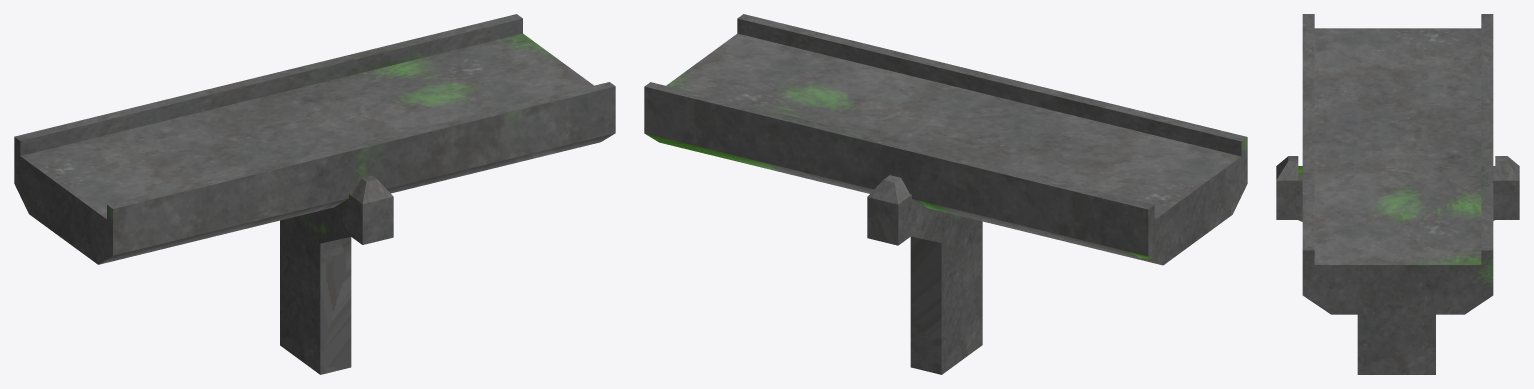
Rendered from bridge_part.fbx.
The picture shows the model from 3 angles, left to right: view 1: azimuth 30°, elevation 25°; view 2: azimuth 150°, elevation 25°; view 3: azimuth 270°, elevation 25°; orthographic projection. The views are drawn at different scales.
Parts seen in each view (by area): view 1: bridge; view 2: bridge; view 3: bridge.
Part boxes in pixels (<box>): bridge: <box>14,14,615,374</box>; bridge: <box>644,14,1247,374</box>; bridge: <box>1276,14,1519,374</box>.
Size of the model in its own units: 19555 by 9083 by 8502.
